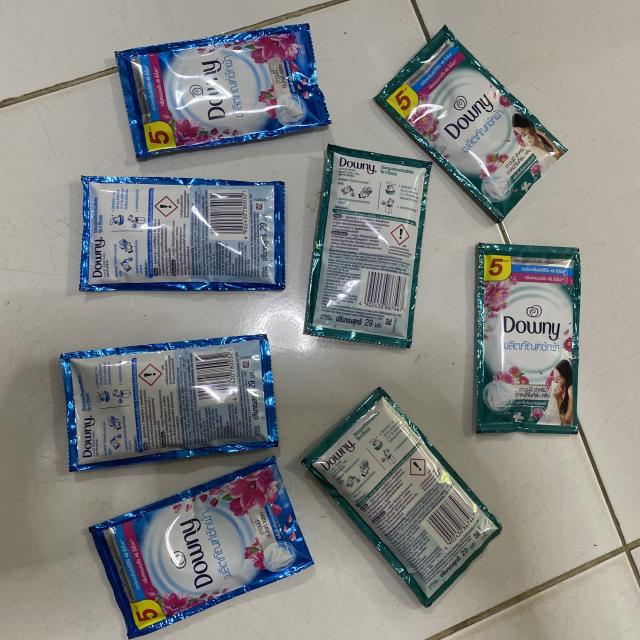plastik: (302, 388, 500, 606), (89, 456, 314, 639), (375, 26, 566, 221), (61, 335, 278, 471), (115, 24, 330, 158), (305, 145, 431, 348), (80, 176, 285, 291), (476, 244, 581, 434)
